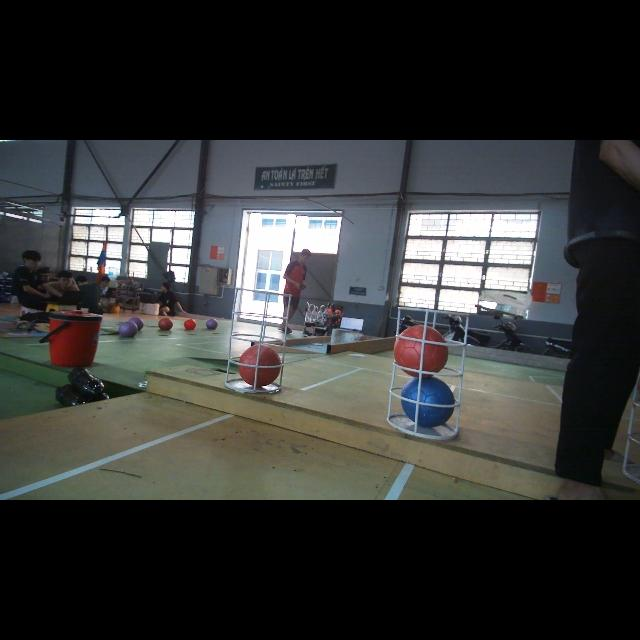B: (402, 376, 454, 426)
R: (394, 324, 450, 376), (238, 344, 280, 388)
